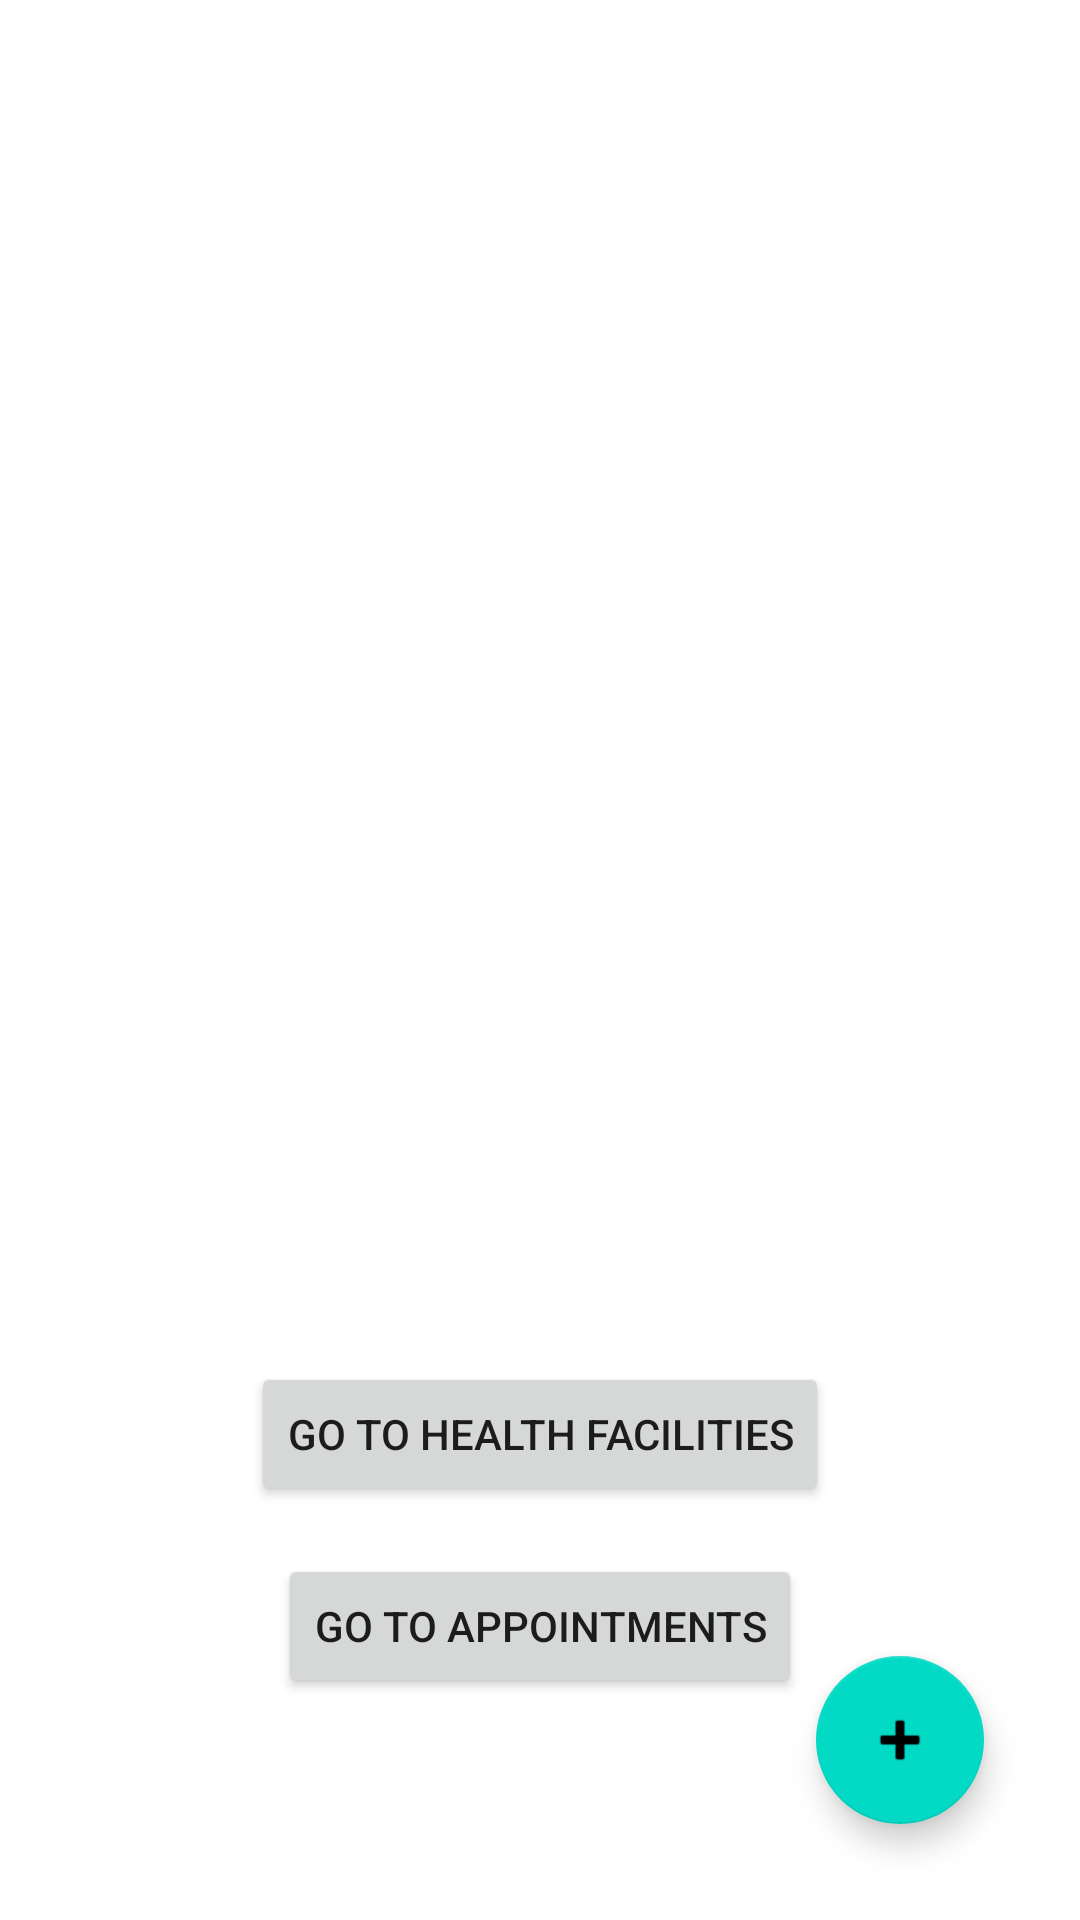

Named icons in this screenshot (1080 × 1920) and their bounding boxes, rect(x1, y1, x2, y2):
Add appointment: rect(816, 1656, 984, 1824)
